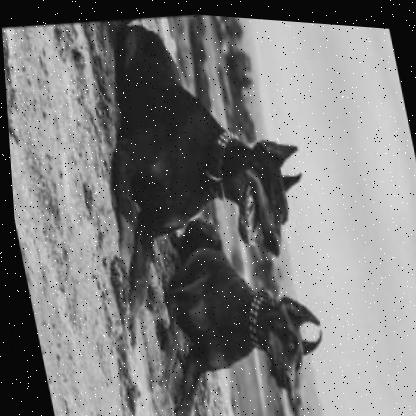dog: (63, 5, 334, 345), (129, 197, 341, 416)
